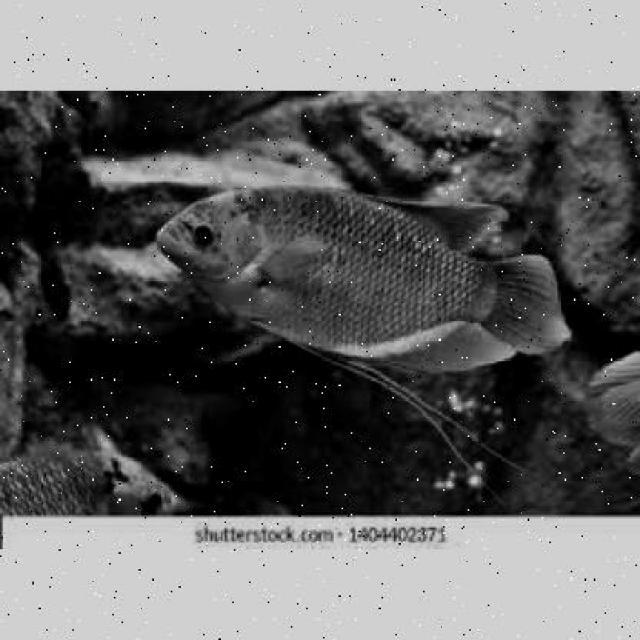gurame: (159, 184, 570, 376), (0, 437, 172, 514)
